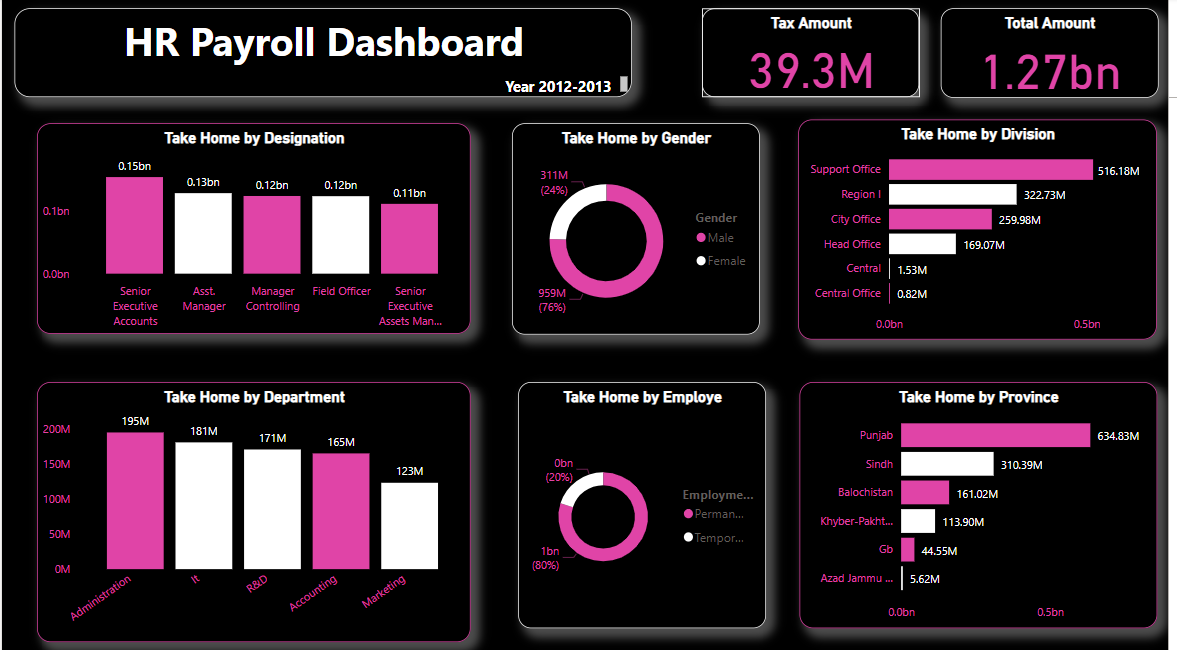

What the dashboard file says about the page in this screenshot:
{"tool":"powerbi","page":{"name":"Payroll Dashboard","canvas":[1280,720],"ordinal":1},"visuals":[{"type":"card","title":"Total Amount","fields":{"Values":["Sum(Payroll Database.Take Home)"]},"box":[1029.9,11.9,238.8,98.5],"z":0},{"type":"card","title":"Tax Amount","fields":{"Values":["Sum(Payroll Database.Tax)"]},"box":[768.4,12.3,238.8,97.4],"z":1000},{"type":"clusteredColumnChart","title":"Take Home by Department","fields":{"Category":["Payroll Database.Department"],"Y":["Sum(Payroll Database.Take Home)"]},"box":[38.4,422.6,476.2,285.4],"z":2000},{"type":"clusteredColumnChart","title":"Take Home by Designation","fields":{"Category":["Payroll Database.designation"],"Y":["Sum(Payroll Database.Take Home)"]},"box":[38.8,138.8,476.1,231.3],"z":3000},{"type":"donutChart","title":"Take Home by Gender","fields":{"Y":["Sum(Payroll Database.Take Home)"],"Category":["Payroll Database.Gender"]},"box":[559.9,138.6,271.7,231.9],"z":4000},{"type":"donutChart","title":"Take Home by Employe","fields":{"Y":["Sum(Payroll Database.Take Home)"],"Category":["Payroll Database.Employment Type"]},"box":[567.2,422.4,271.6,270.1],"z":5000},{"type":"textbox","box":[13.7,12.3,677.9,97.4],"z":6000},{"type":"clusteredBarChart","title":" Take Home by Division","fields":{"Y":["Sum(Payroll Database.Take Home)"],"Category":["Payroll Database.Division"]},"box":[874.1,134.5,393.8,241.5],"z":7000},{"type":"clusteredBarChart","title":" Take Home by Province","fields":{"Y":["Sum(Payroll Database.Take Home)"],"Category":["Payroll Database.Province"]},"box":[876.1,422.4,392.5,270.1],"z":8000},{"type":"textbox","box":[547.5,82.3,144.1,27.4],"z":9000}]}

Visuals, with their boxes in screenshot pixels (x1, y1, x2, y2), scaled from the page's 1280x720 canvas onto the 1177x650 screenshot:
"Total Amount" card: select_region(947, 11, 1167, 100)
"Tax Amount" card: select_region(707, 11, 926, 99)
"Take Home by Department" clusteredColumnChart: select_region(35, 382, 473, 639)
"Take Home by Designation" clusteredColumnChart: select_region(36, 125, 473, 334)
"Take Home by Gender" donutChart: select_region(515, 125, 765, 334)
"Take Home by Employe" donutChart: select_region(522, 381, 771, 625)
textbox: select_region(13, 11, 636, 99)
" Take Home by Division" clusteredBarChart: select_region(804, 121, 1166, 339)
" Take Home by Province" clusteredBarChart: select_region(806, 381, 1167, 625)
textbox: select_region(503, 74, 636, 99)
